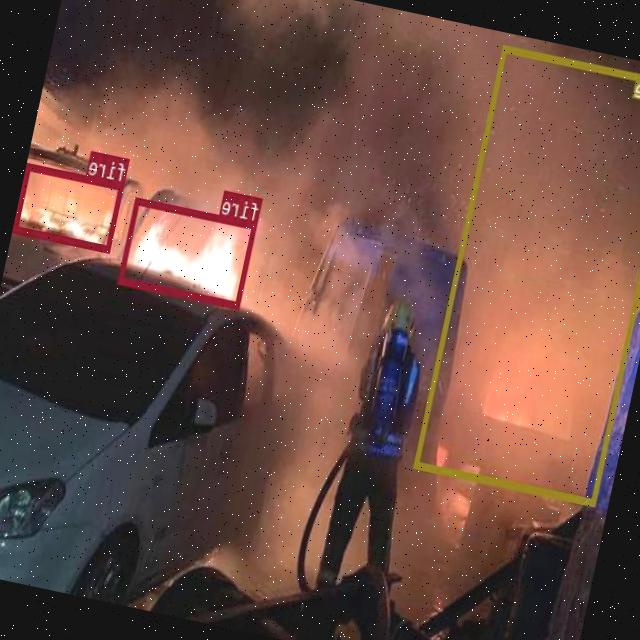fire: (118, 196, 257, 308), (14, 163, 125, 251)
smoke: (414, 43, 640, 505)
